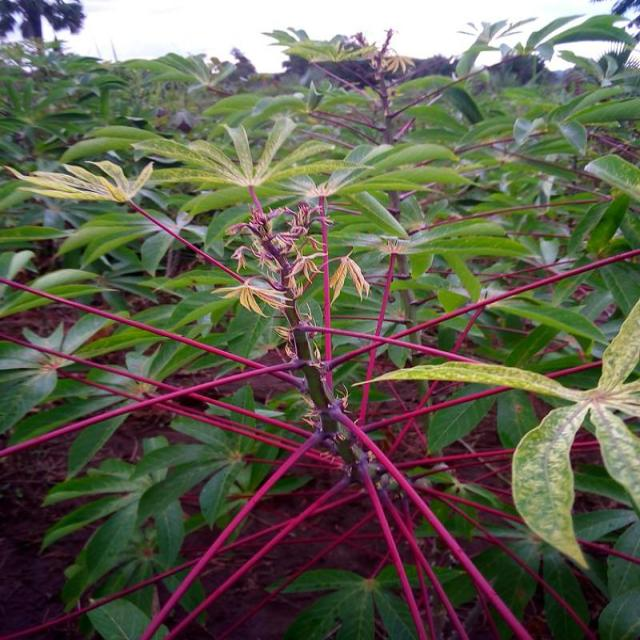cassava leaf: (2, 12, 640, 638), (511, 399, 592, 570)
